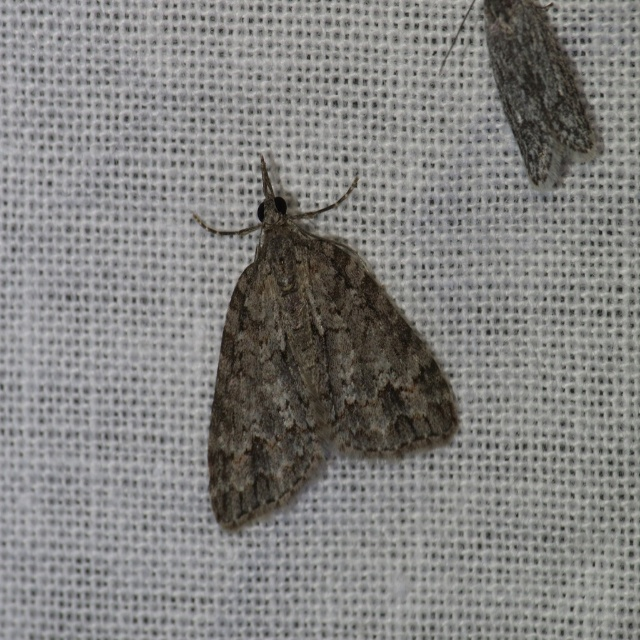Moths and butterflies: (190, 153, 458, 531), (443, 0, 598, 197)
